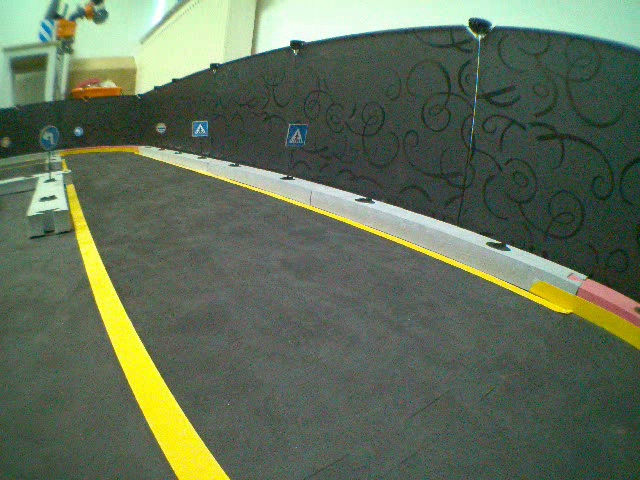Check: (156, 121, 167, 133)
crossing: (285, 121, 308, 147), (189, 119, 209, 137)
turn: (39, 125, 60, 149), (74, 125, 84, 136)
